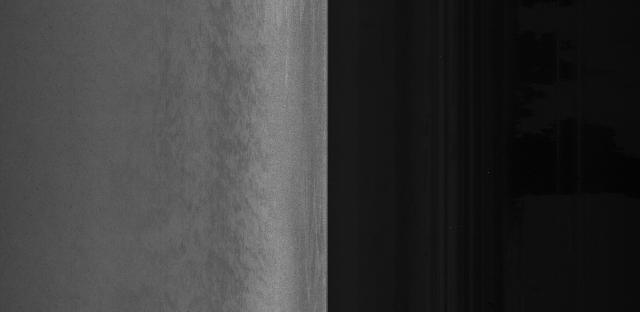silk_spot: (181, 62, 295, 270)
